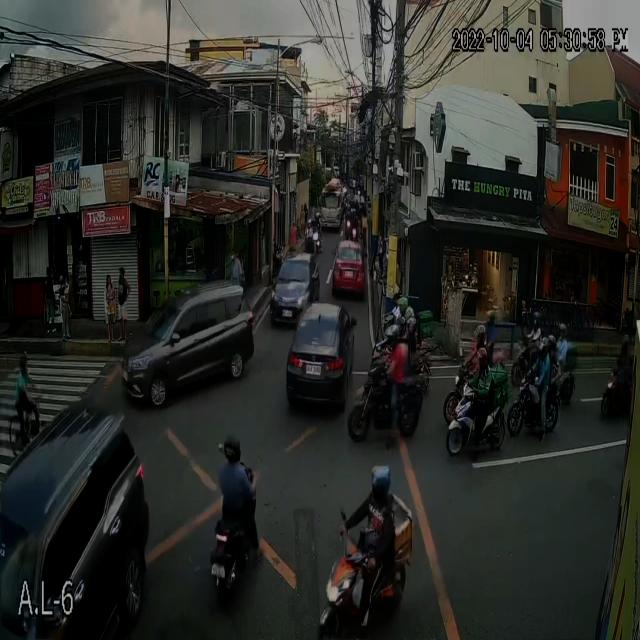Full-Faced: (365, 462, 386, 500), (220, 435, 240, 467), (538, 337, 550, 361), (622, 332, 633, 358), (406, 306, 420, 326), (469, 328, 483, 346), (475, 354, 486, 376), (415, 325, 425, 343), (556, 324, 565, 343), (487, 306, 495, 326), (408, 318, 418, 332), (532, 313, 542, 327), (395, 318, 406, 330)
Half-Faced: (18, 345, 28, 370), (348, 205, 357, 224)
Not-Wearing-Helmet: (360, 212, 368, 232)
